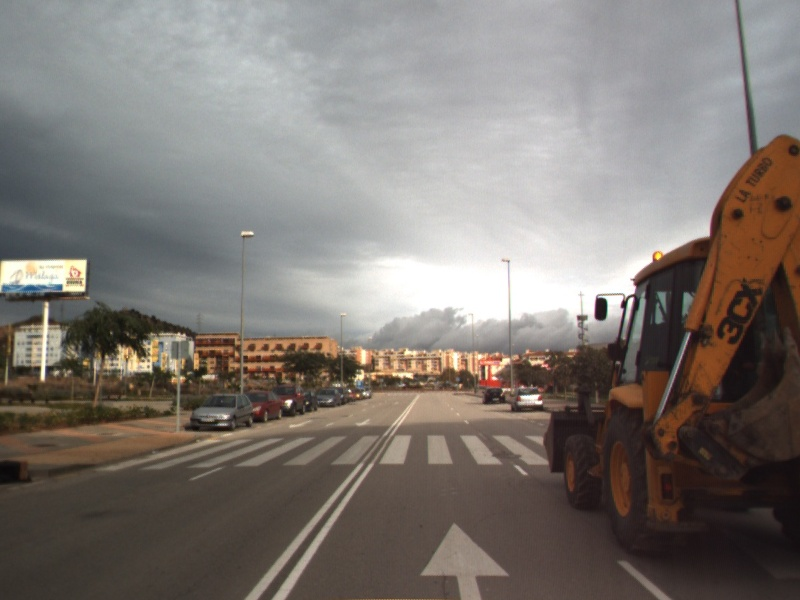STRAIGHT: (416, 519, 514, 600)
